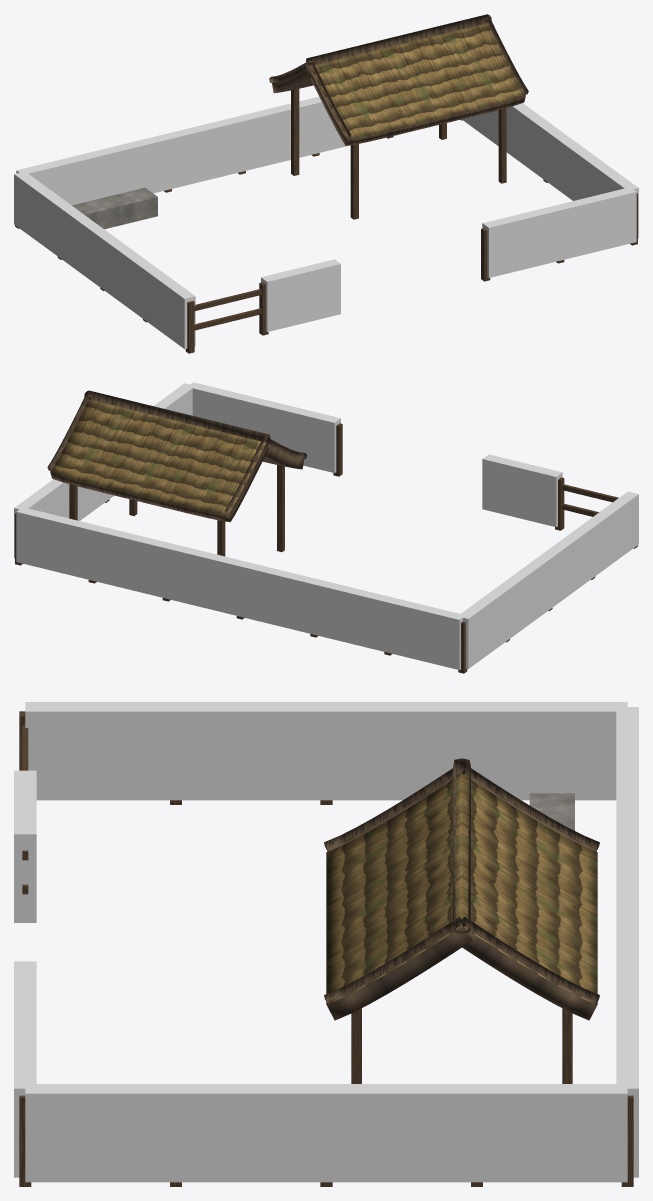
The model's file is beast_pen.glb.
3 renders of one model, top to bottom at view 1: azimuth 30°, elevation 25°; view 2: azimuth 150°, elevation 25°; view 3: azimuth 270°, elevation 25°, orthographic. The views are drawn at different scales.
Visible parts, largest first — view 1: Shelter, Fence-convcolonly.002, Fence-convcolonly.001, Fence-convcolonly.011, Fence-convcolonly.003, Fence-convcolonly.012, Fence-convcolonly.010, ShelterRidge, Fence-convcolonly.017, Fence-convcolonly.015, Fence-convcolonly.016, Fence-convcolonly.014 (+9 smaller); view 2: Shelter, Fence-convcolonly.001, Fence-convcolonly.013, Fence-convcolonly.008, Fence-convcolonly.012, Fence-convcolonly.011, Fence-convcolonly.010, Fence-convcolonly.009, Fence-convcolonly.002, ShelterRidge, Fence-convcolonly.014, Fence-convcolonly.016 (+8 smaller); view 3: Shelter, Fence-convcolonly.005, Fence-convcolonly.007, Fence-convcolonly.006, Fence-convcolonly.016, Fence-convcolonly.004, Fence-convcolonly.017, Fence-convcolonly.015, Fence-convcolonly.014, ShelterRidge, Fence-convcolonly.001, Fence (+10 smaller).
Part boxes in pixels (box(x1,y1,x2,y2)): Shelter: box(272, 23, 525, 145); Fence-convcolonly.002: box(482, 205, 562, 277); Fence-convcolonly.001: box(261, 259, 340, 331); Fence-convcolonly.011: box(164, 116, 244, 188); Fence-convcolonly.003: box(556, 188, 636, 259); Fence-convcolonly.012: box(90, 134, 170, 199); Fence-convcolonly.010: box(238, 98, 318, 170); ShelterRidge: box(269, 14, 528, 138); Fence-convcolonly.017: box(142, 265, 195, 348); Fence-convcolonly.015: box(56, 202, 109, 286); Fence-convcolonly.016: box(99, 234, 152, 317); Fence-convcolonly.014: box(14, 173, 67, 255); Shelter: box(50, 399, 304, 522); Fence-convcolonly.001: box(482, 454, 562, 527); Fence-convcolonly.013: box(385, 597, 465, 669); Fence-convcolonly.008: box(16, 508, 96, 579); Fence-convcolonly.012: box(312, 579, 391, 651); Fence-convcolonly.011: box(238, 561, 317, 633); Fence-convcolonly.010: box(164, 543, 243, 615); Fence-convcolonly.009: box(90, 525, 169, 597); Fence-convcolonly.002: box(261, 400, 340, 473); ShelterRidge: box(47, 390, 306, 514); Fence-convcolonly.014: box(457, 585, 510, 669); Fence-convcolonly.016: box(543, 522, 596, 606); Shelter: box(326, 774, 597, 1020); Fence-convcolonly.005: box(176, 1084, 326, 1182); Fence-convcolonly.007: box(477, 1084, 627, 1182); Fence-convcolonly.006: box(326, 1084, 476, 1182); Fence-convcolonly.016: box(176, 702, 326, 800); Fence-convcolonly.004: box(25, 1084, 175, 1182); Fence-convcolonly.017: box(25, 702, 175, 800); Fence-convcolonly.015: box(326, 702, 476, 800); Fence-convcolonly.014: box(477, 702, 627, 800); ShelterRidge: box(324, 758, 599, 1004); Fence-convcolonly.001: box(14, 770, 36, 922); Fence: box(19, 711, 633, 1186).
Size of what is drawn, in the model's own units: 12.3 by 3.7 by 8.3.
4 materials, 4 textured.
